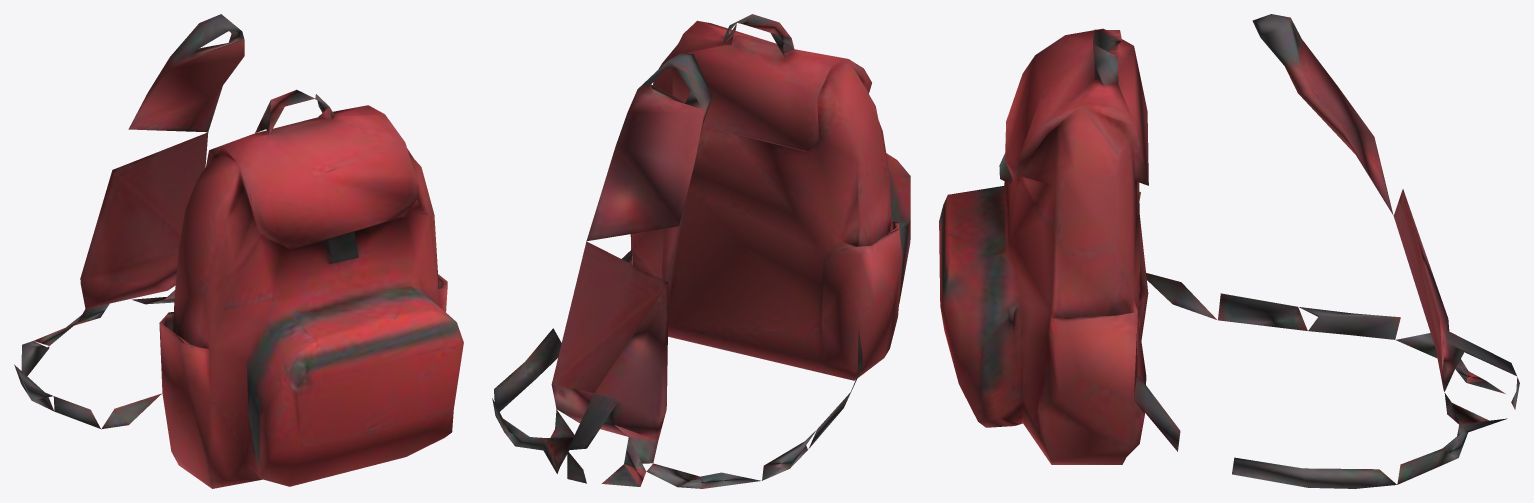
Rendered from prop-delivery-bag.glb.
The picture shows the model from 3 angles, left to right: view 1: azimuth 30°, elevation 25°; view 2: azimuth 150°, elevation 25°; view 3: azimuth 270°, elevation 25°; orthographic projection. The views are drawn at different scales.
Size of the model in its own units: 1.32 by 1.51 by 2.
1 material, 1 textured.
